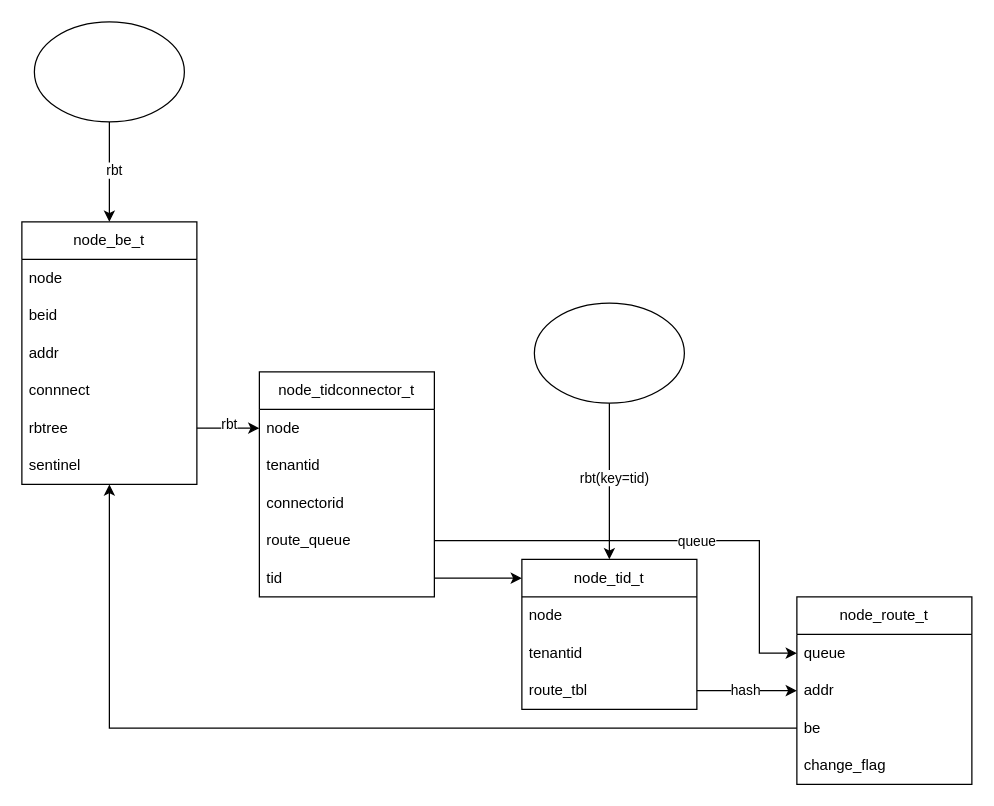
Image size: 994x806. Some labels were removed from this diagram. Here are the shapes that lost their labels. From the top down, the centre of each, then its label:
pixel 108 71: g_be_rbtree
pixel 608 352: g_tenant_route_rbtree
